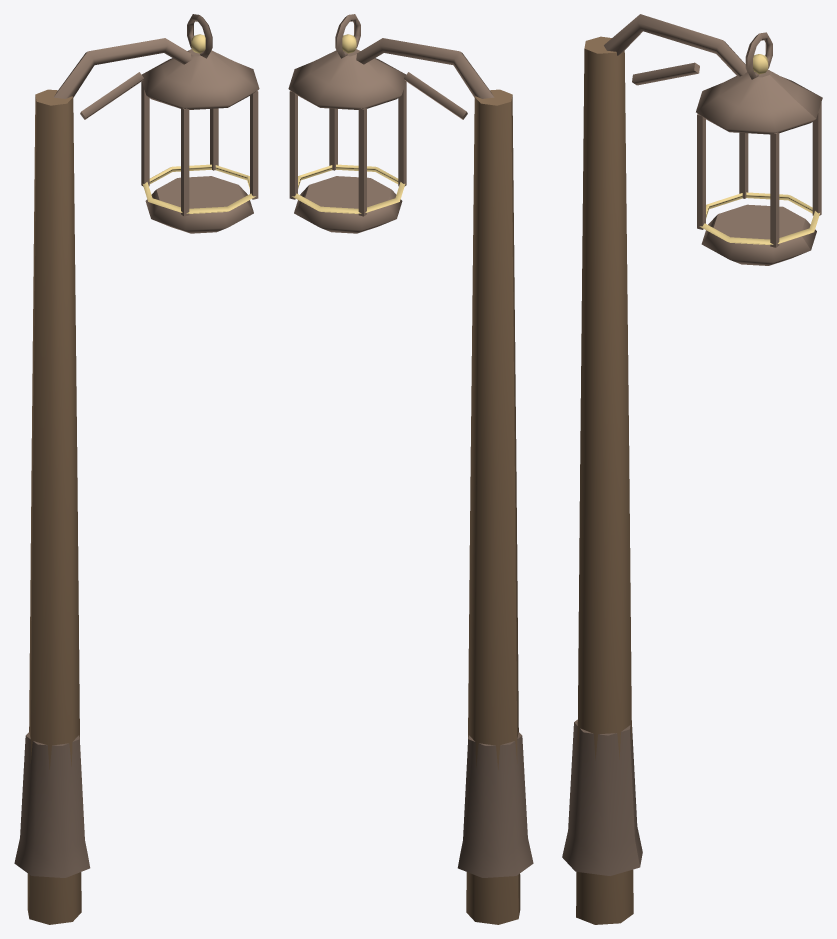
The model's file is laternenpfahl.glb.
The picture shows the model from 3 angles, left to right: view 1: azimuth 30°, elevation 25°; view 2: azimuth 150°, elevation 25°; view 3: azimuth 330°, elevation 25°; orthographic projection. The views are drawn at different scales.
Parts seen in each view (by area): view 1: G_laternenpfahl; view 2: G_laternenpfahl; view 3: G_laternenpfahl.
Part boxes in pixels (<box>): G_laternenpfahl: <box>14,14,259,924</box>; G_laternenpfahl: <box>288,14,533,924</box>; G_laternenpfahl: <box>562,14,822,924</box>.
Size of the model in its own units: 0.9461 by 3.38 by 0.44.
